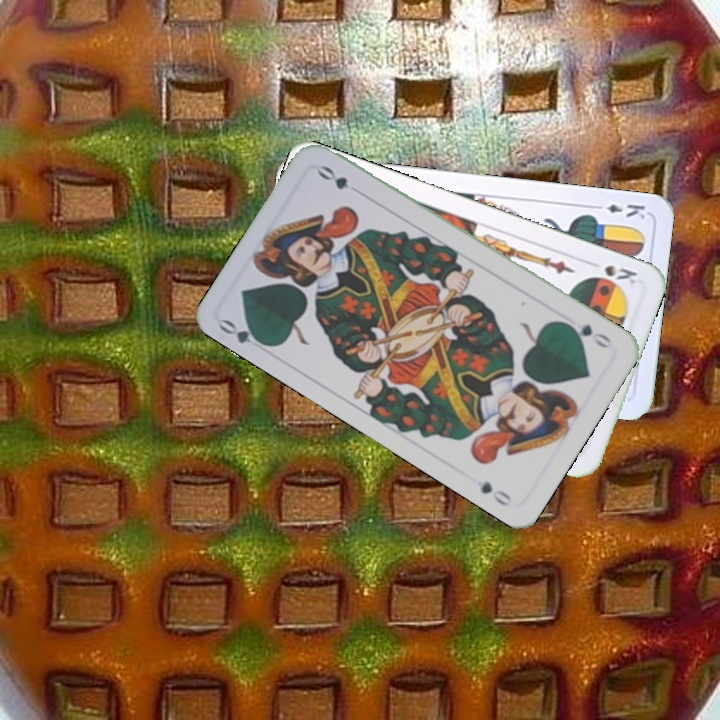EK: (589, 200, 648, 222)
GO: (215, 315, 272, 350), (560, 318, 615, 351)
SK: (589, 260, 640, 288)
